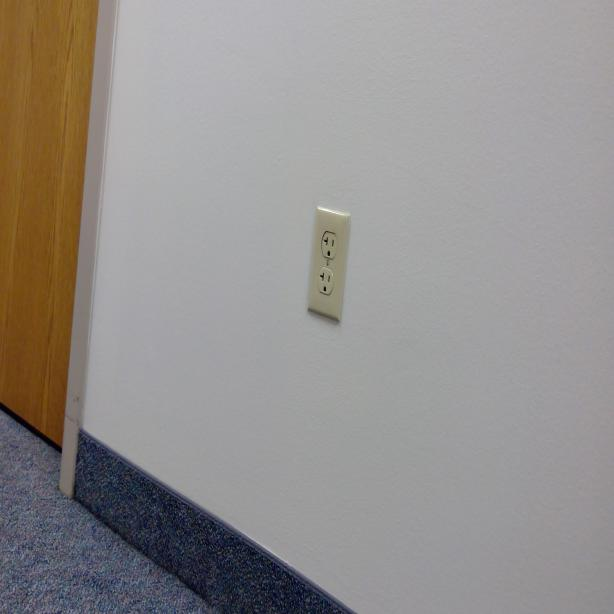typeb: (321, 232, 338, 259), (318, 268, 334, 296)
